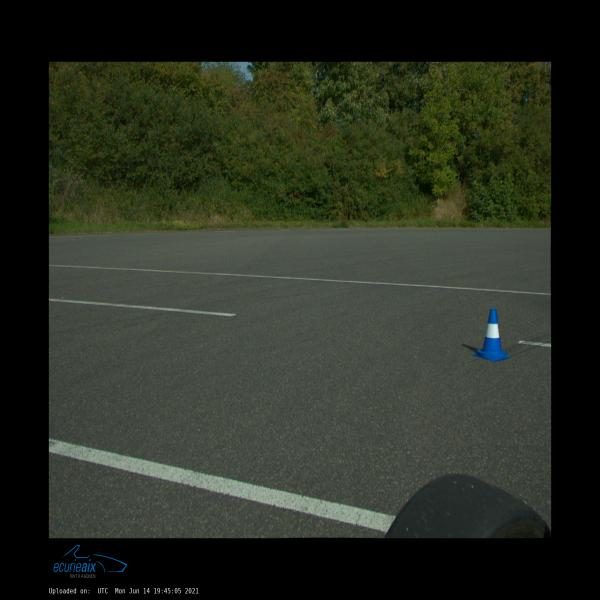blue_cone: (473, 308, 510, 361)
